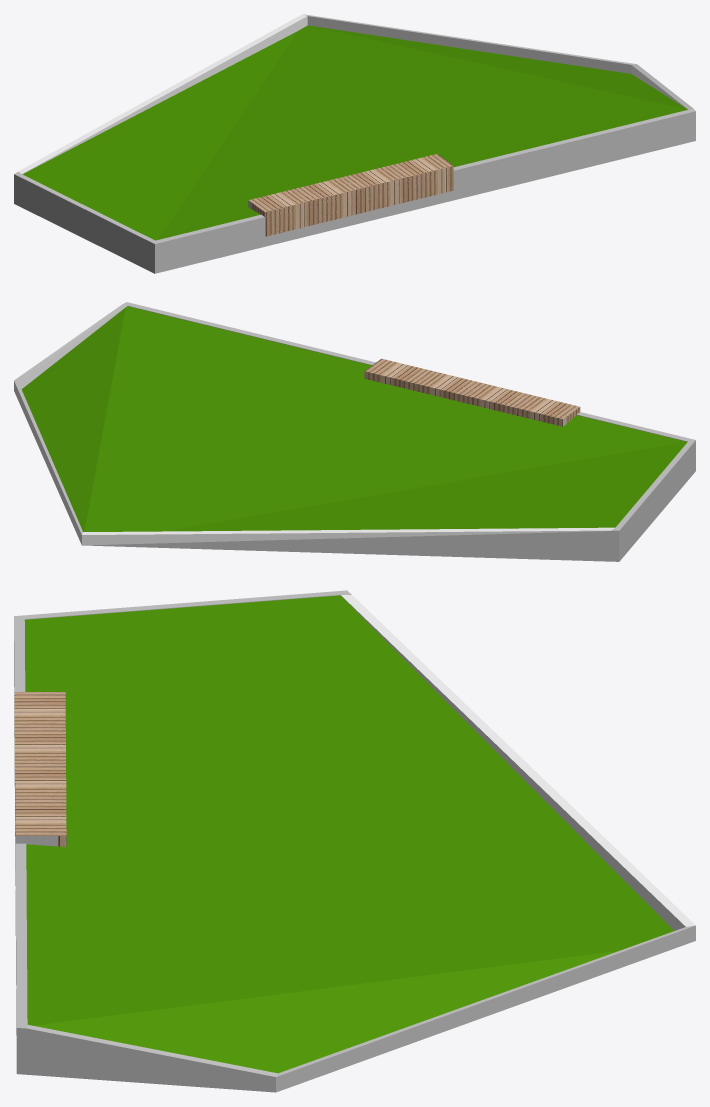
File: GrassyPlot.glb
3 views of the same model, one above another, from view 1: azimuth 30°, elevation 25°; view 2: azimuth 150°, elevation 25°; view 3: azimuth 270°, elevation 25° (orthographic). The views are drawn at different scales.
Parts seen in each view (by area): view 1: empty_79; view 2: empty_79; view 3: empty_79.
Part boxes in pixels (x1,y1,x2,y2): empty_79: (14,14,695,273); empty_79: (14,302,695,561); empty_79: (14,590,695,1092).
Size of the model in its own units: 12.69 by 0.7 by 8.02.
5 materials, 1 textured.
